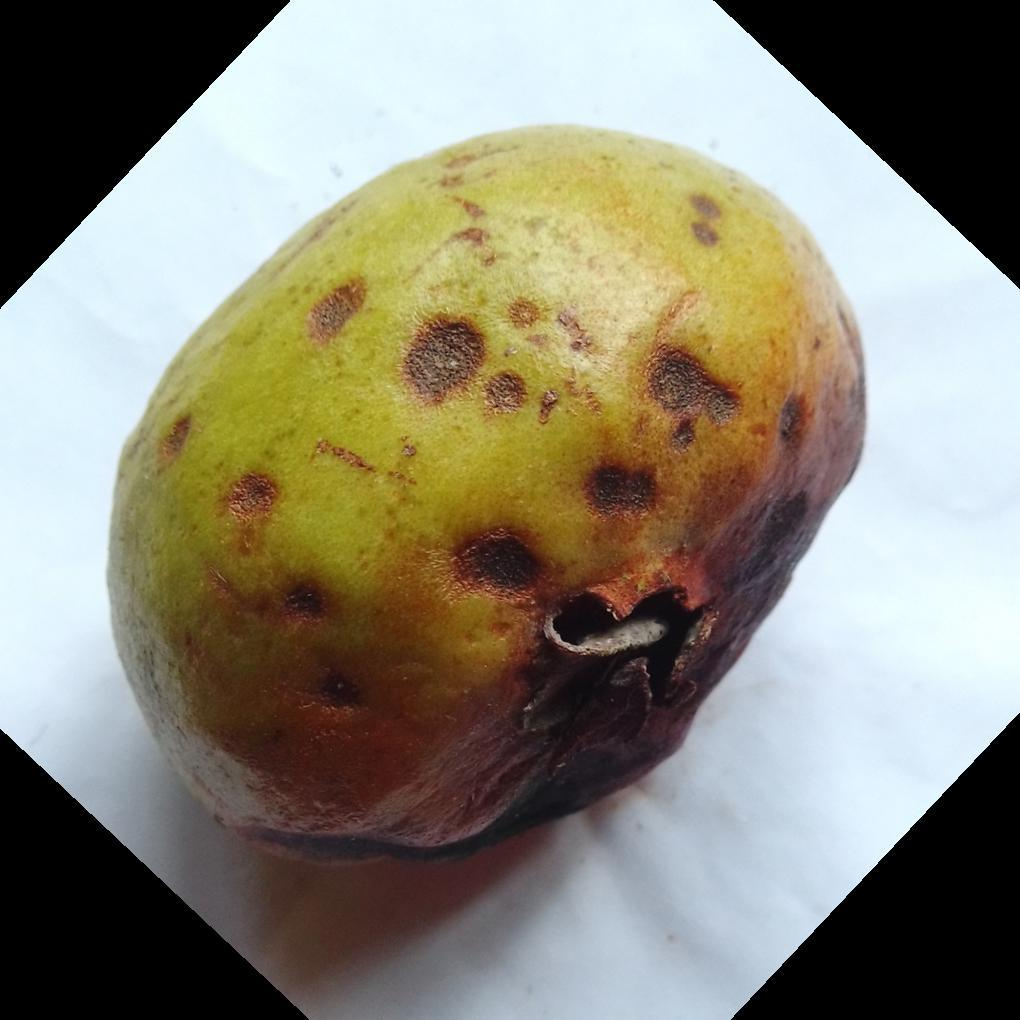FreshOrange: (103, 124, 870, 869)
